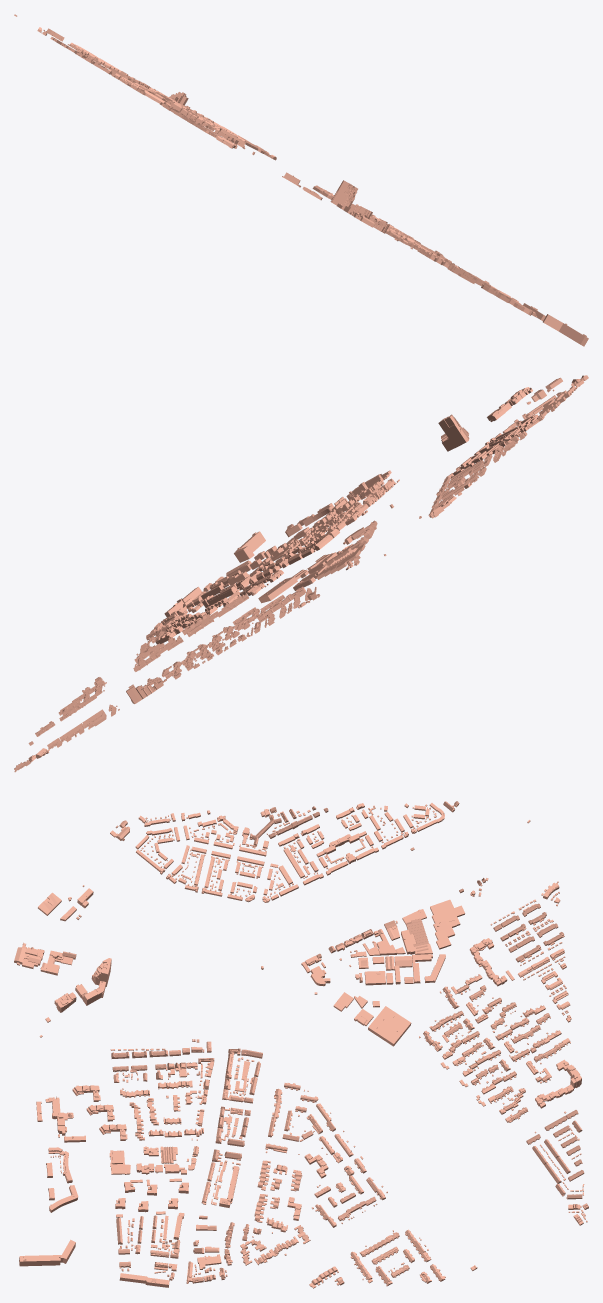
3 renders of one model, top to bottom at view 1: azimuth 30°, elevation 25°; view 2: azimuth 150°, elevation 25°; view 3: azimuth 270°, elevation 25°, orthographic. The views are drawn at different scales.
Bounding box in the file's own units: 3.31e+07 × 2.44e+07 × 4.19e+07.
